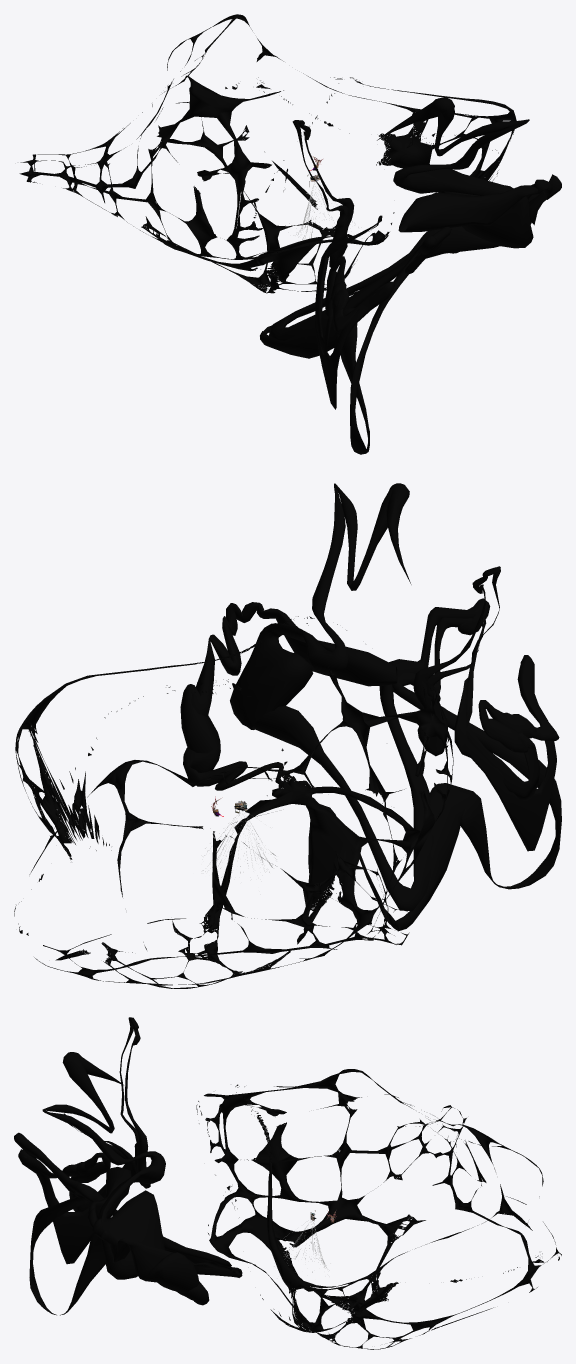
3 renders of one model, top to bottom at view 1: azimuth 30°, elevation 25°; view 2: azimuth 150°, elevation 25°; view 3: azimuth 270°, elevation 25°, orthographic. The views are drawn at different scales.
Parts seen in each view (by area): view 1: GP_Layer; view 2: GP_Layer; view 3: GP_Layer.
Boxes of the visible parts, <box> form: GP_Layer: <box>19,14,561,454</box>; GP_Layer: <box>14,483,561,988</box>; GP_Layer: <box>14,1017,561,1349</box>.
Size of the model in its own units: 1203 by 899 by 1484.
16 materials, 16 textured.
